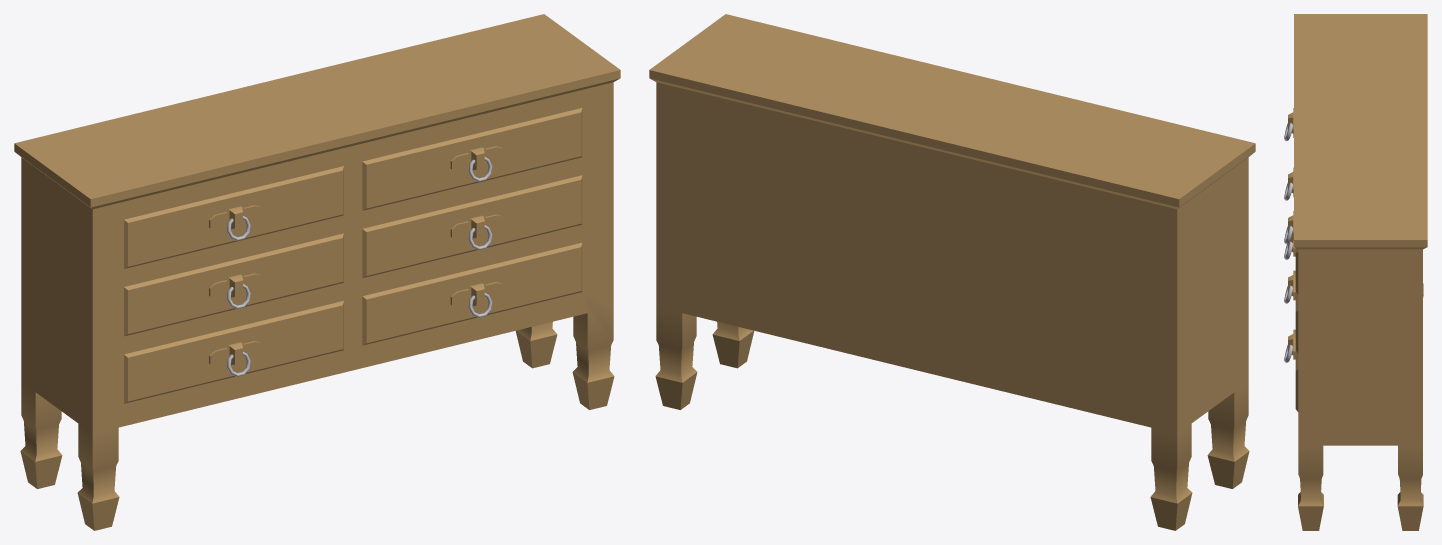
The model's file is storage6.obj.
The picture shows the model from 3 angles, left to right: view 1: azimuth 30°, elevation 25°; view 2: azimuth 150°, elevation 25°; view 3: azimuth 270°, elevation 25°; orthographic projection. The views are drawn at different scales.
Parts seen in each view (by area): view 1: storage6; view 2: storage6; view 3: storage6.
Boxes of the visible parts, x1=… form: storage6: x1=14, y1=14, x2=620, y2=530; storage6: x1=649, y1=14, x2=1255, y2=530; storage6: x1=1284, y1=14, x2=1427, y2=530.
Size of the model in its own units: 1 by 0.6085 by 0.2678.
